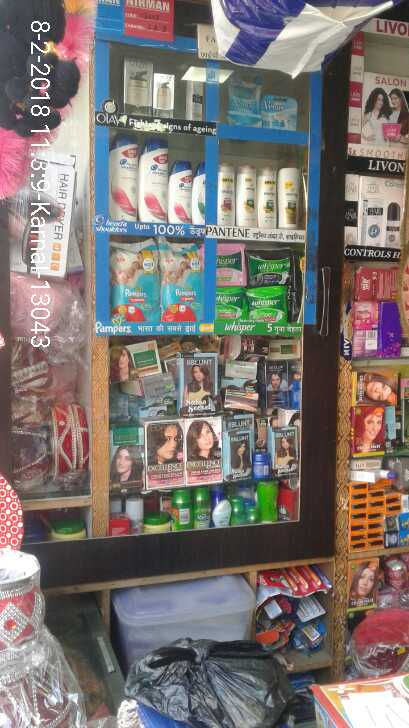venus: (229, 78, 261, 125), (264, 96, 295, 130)
